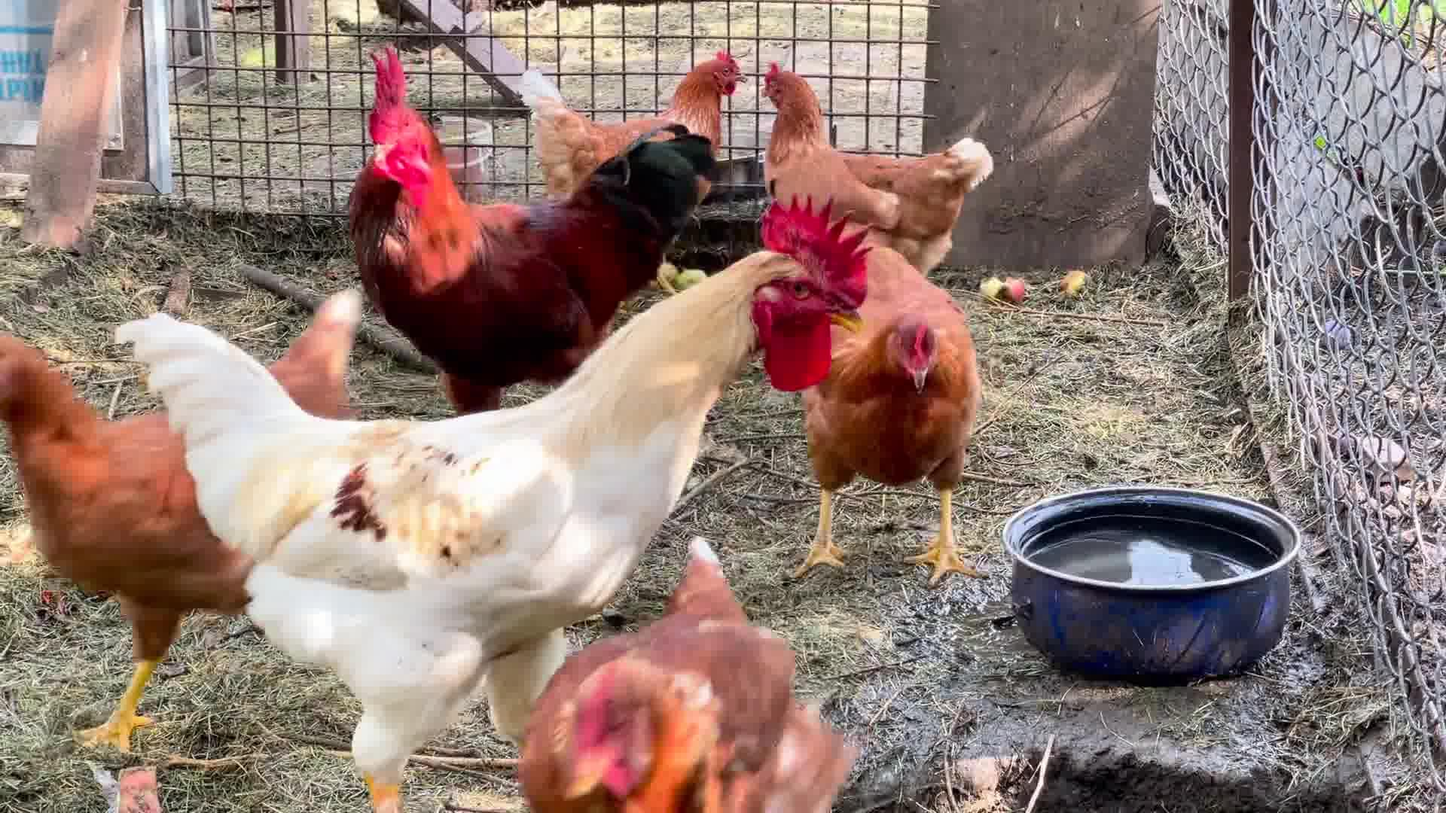Normal: (117, 196, 873, 777), (2, 315, 387, 765), (337, 36, 718, 399), (509, 559, 847, 813), (769, 64, 989, 273), (516, 46, 774, 197)
